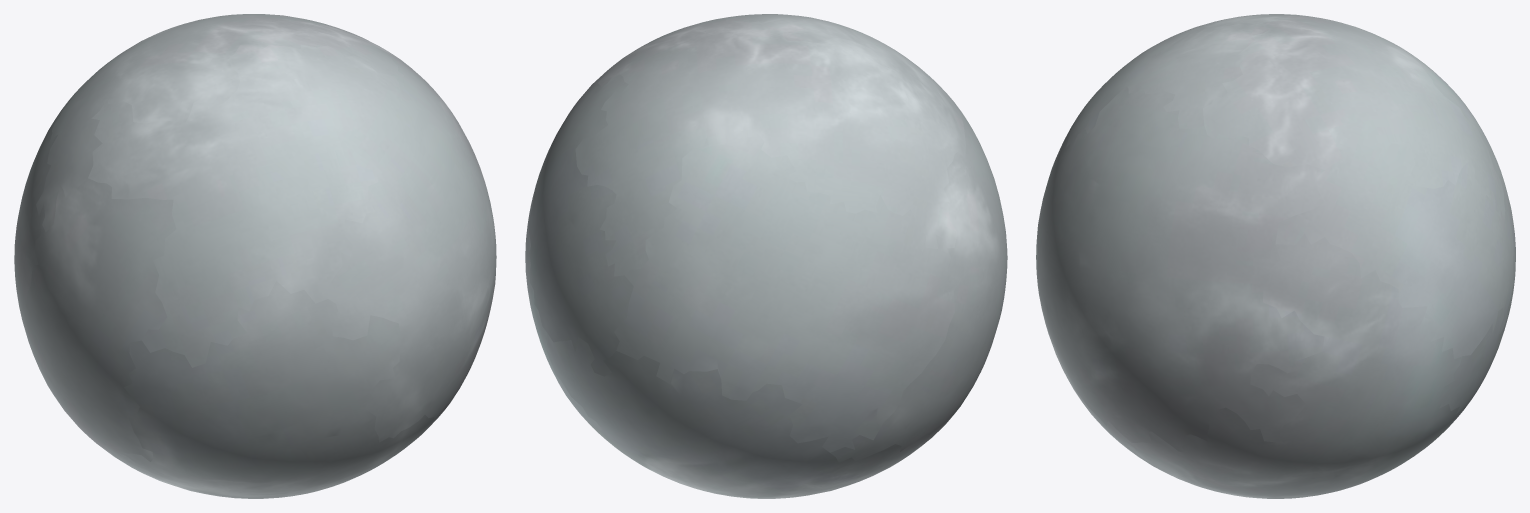
The picture shows the model from 3 angles, left to right: view 1: azimuth 30°, elevation 25°; view 2: azimuth 150°, elevation 25°; view 3: azimuth 270°, elevation 25°; orthographic projection.
Parts seen in each view (by area): view 1: world; view 2: world; view 3: world.
Part boxes in pixels (box(x1,y1,x2,y2)): world: box(14, 14, 496, 498); world: box(525, 14, 1007, 498); world: box(1036, 14, 1515, 498).
Size of the model in its own units: 0.1 by 0.1 by 0.0995.
1 material, 1 textured.
